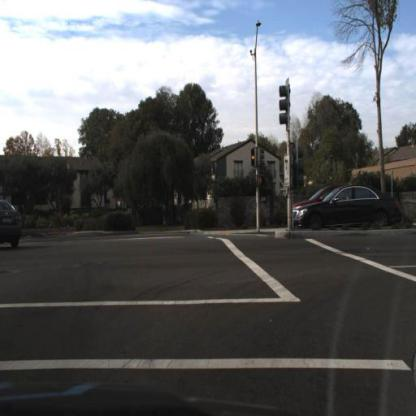car: (281, 171, 412, 243), (0, 194, 23, 254)
trafficLight-Yellow: (247, 144, 259, 175), (250, 144, 255, 169)
